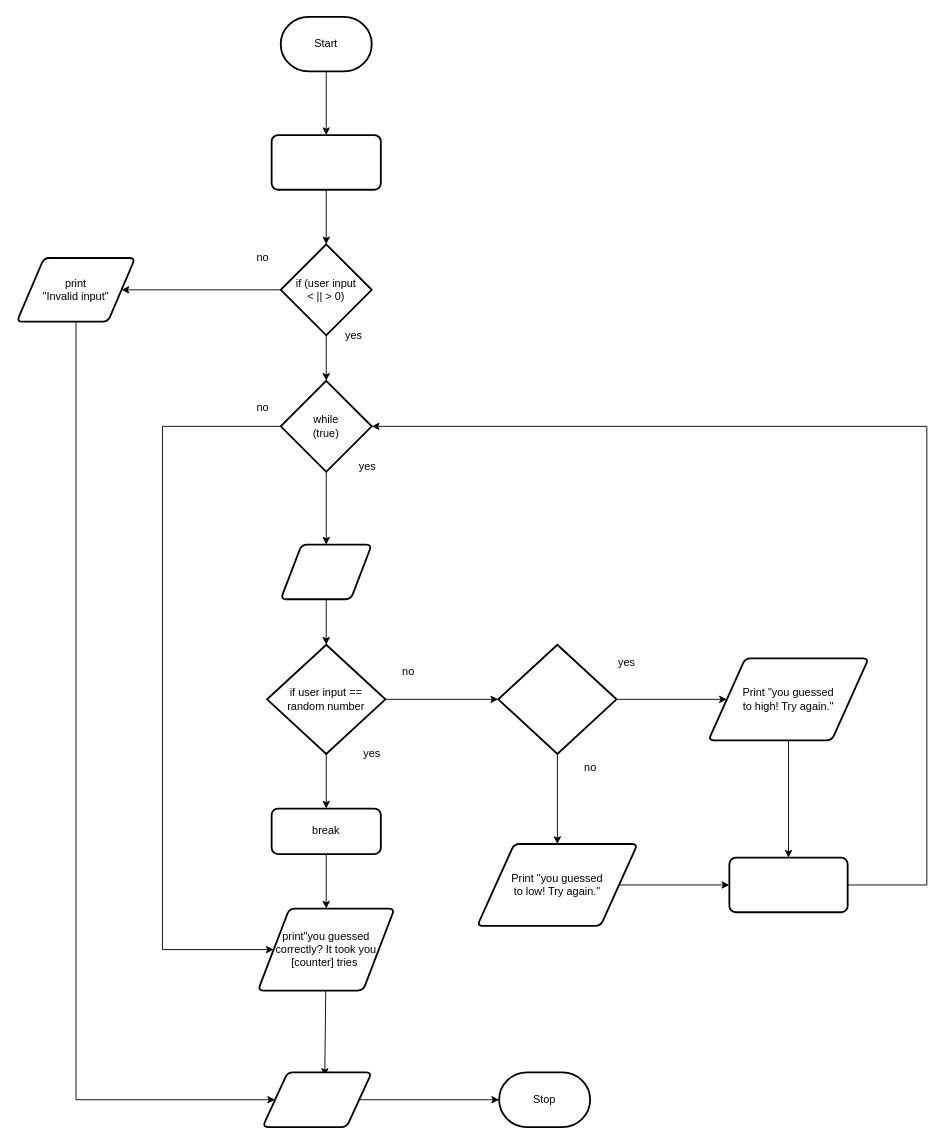
Some shapes in this 950 by 1143 pixel diagram are drawn without their labels. Here are the shapes that lost their labels. From the top down, the centre of each, then its label:
the point at 325,162: Generate random number
the point at 325,571: get user input
the point at 557,698: if user input > random number
the point at 788,884: counter = counter + 1
the point at 316,1099: Print"Done."
